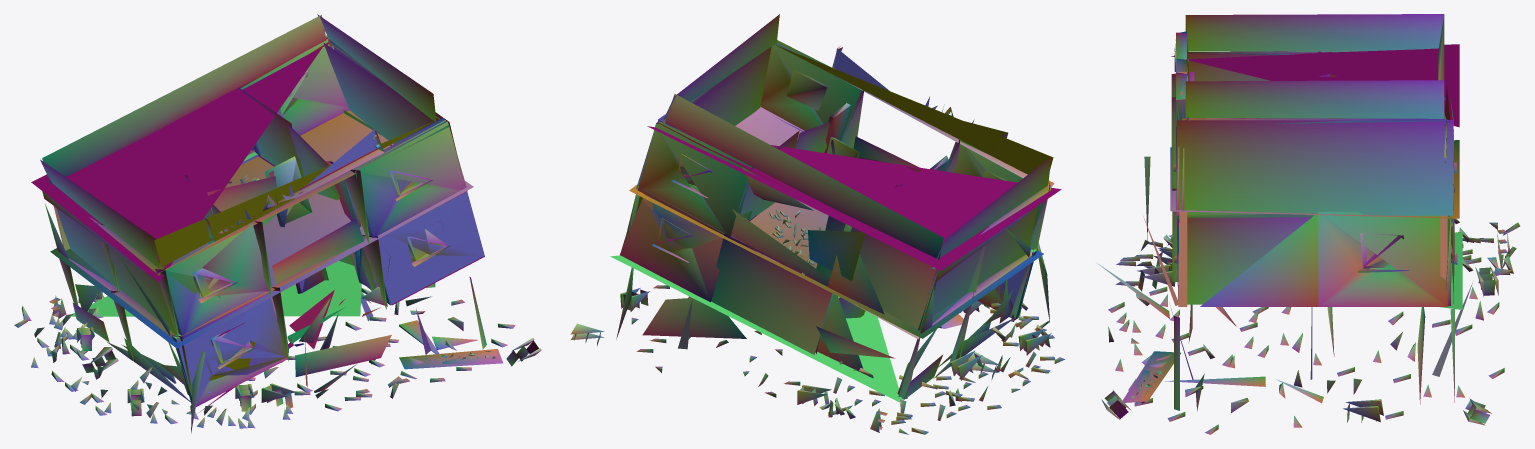
File: zeometry-fragments-ruins-exploding-house_v1.glb
3 renders of one model, left to right at view 1: azimuth 30°, elevation 25°; view 2: azimuth 150°, elevation 25°; view 3: azimuth 270°, elevation 25°, orthographic. The views are drawn at different scales.
Visible parts, largest first — view 1: Exploding House; view 2: Exploding House; view 3: Exploding House.
Part boxes in pixels (x1=…): Exploding House: x1=14, y1=14, x2=541, y2=433; Exploding House: x1=570, y1=14, x2=1064, y2=434; Exploding House: x1=1096, y1=14, x2=1520, y2=434.
Bounding box in the file's own units: 0.5 × 0.3122 × 0.3927.
